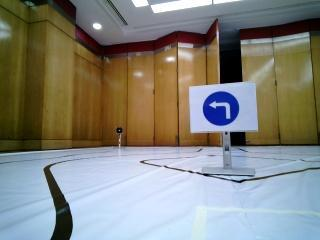left: (192, 88, 248, 130)
